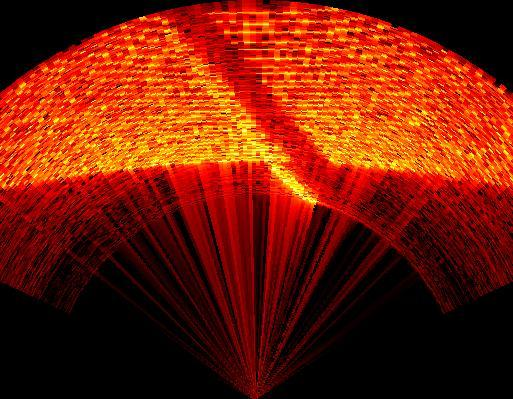pipe: (158, 4, 358, 204)
